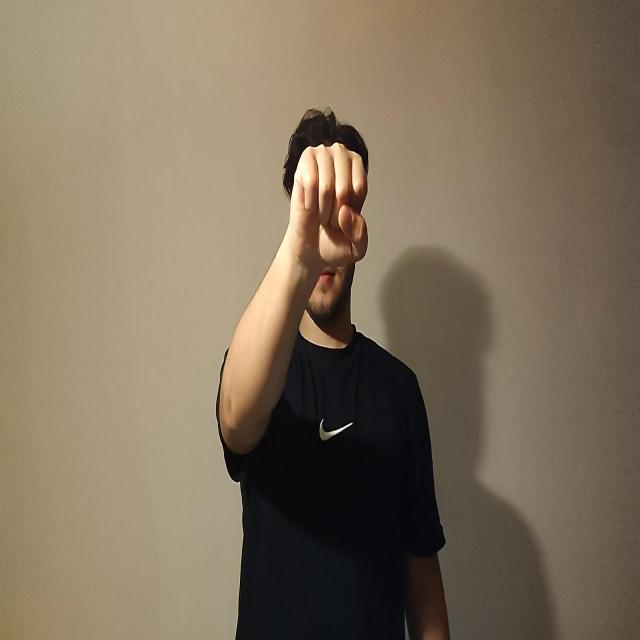yes: (288, 141, 369, 273)
